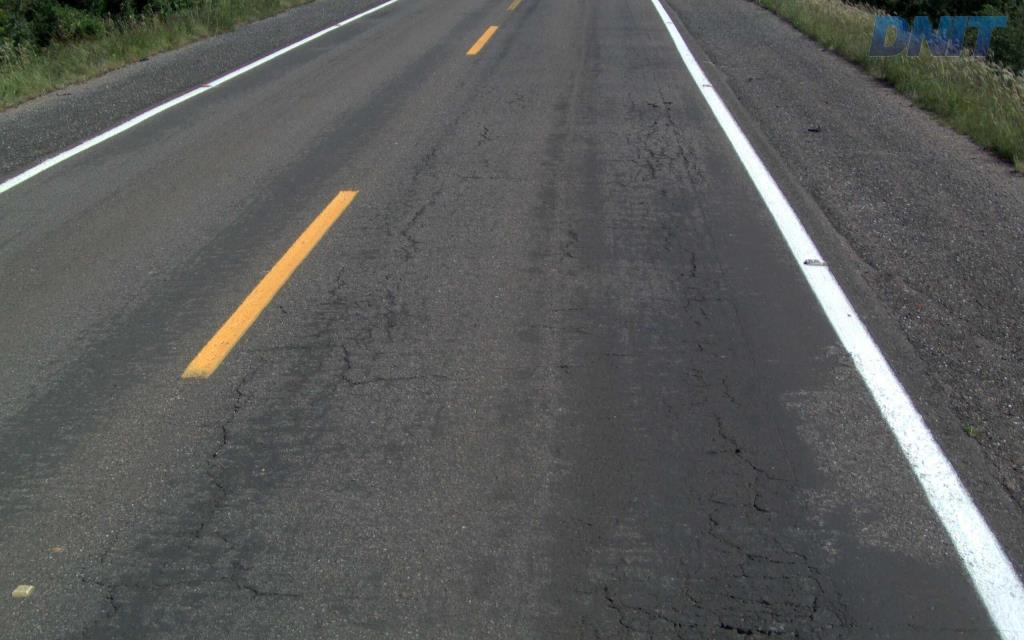crack: (717, 615, 786, 639)
